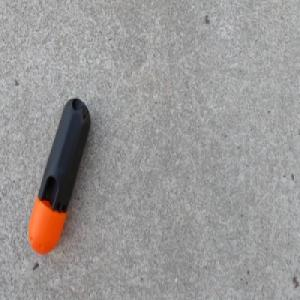PlasticPart: (27, 96, 91, 255)
